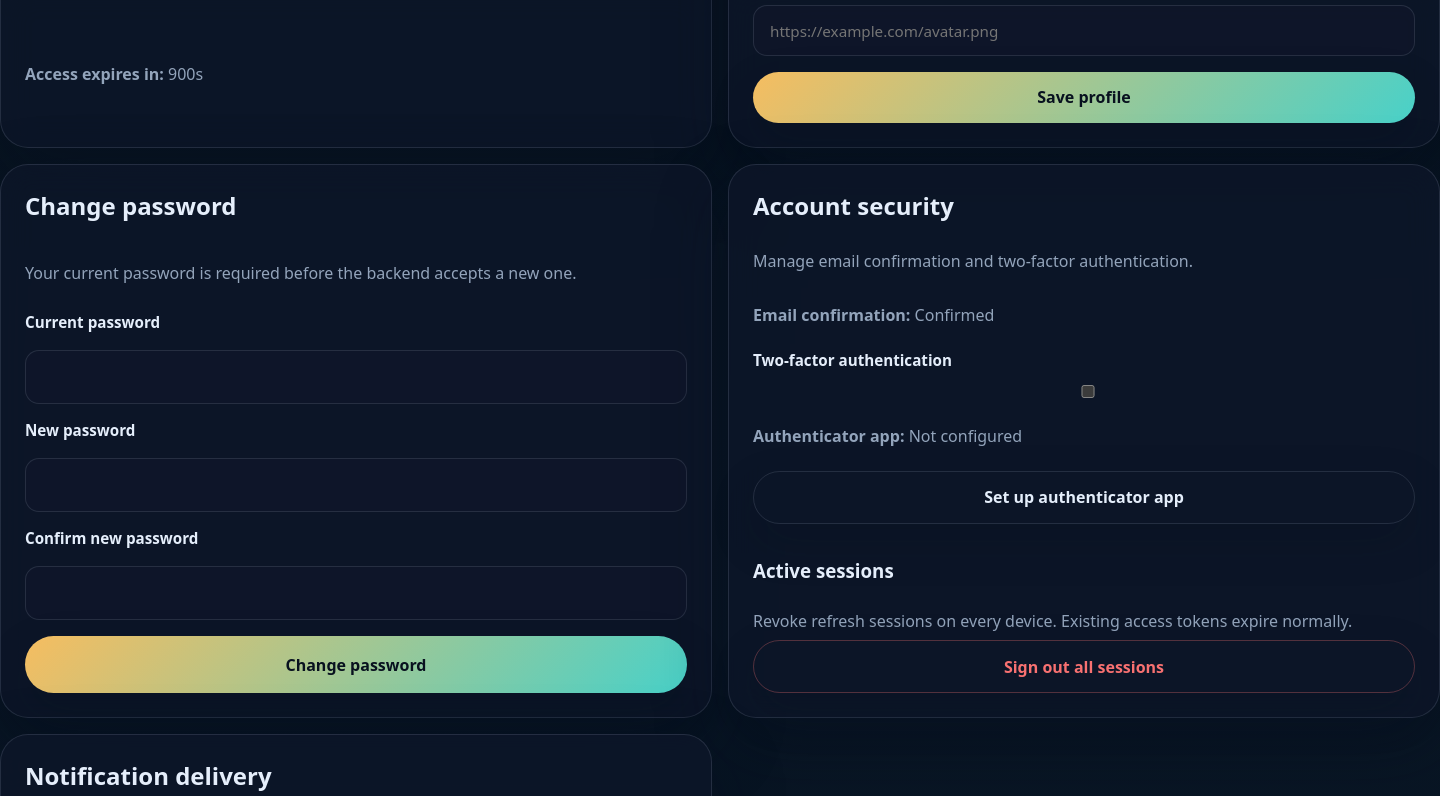
Test: Profile page › loads security settings and updates two-factor authentication
(page scrolled)
Click the checkbox labelled "Two-factor authentication".
click(1088, 391)  # box [757, 385, 1419, 398]
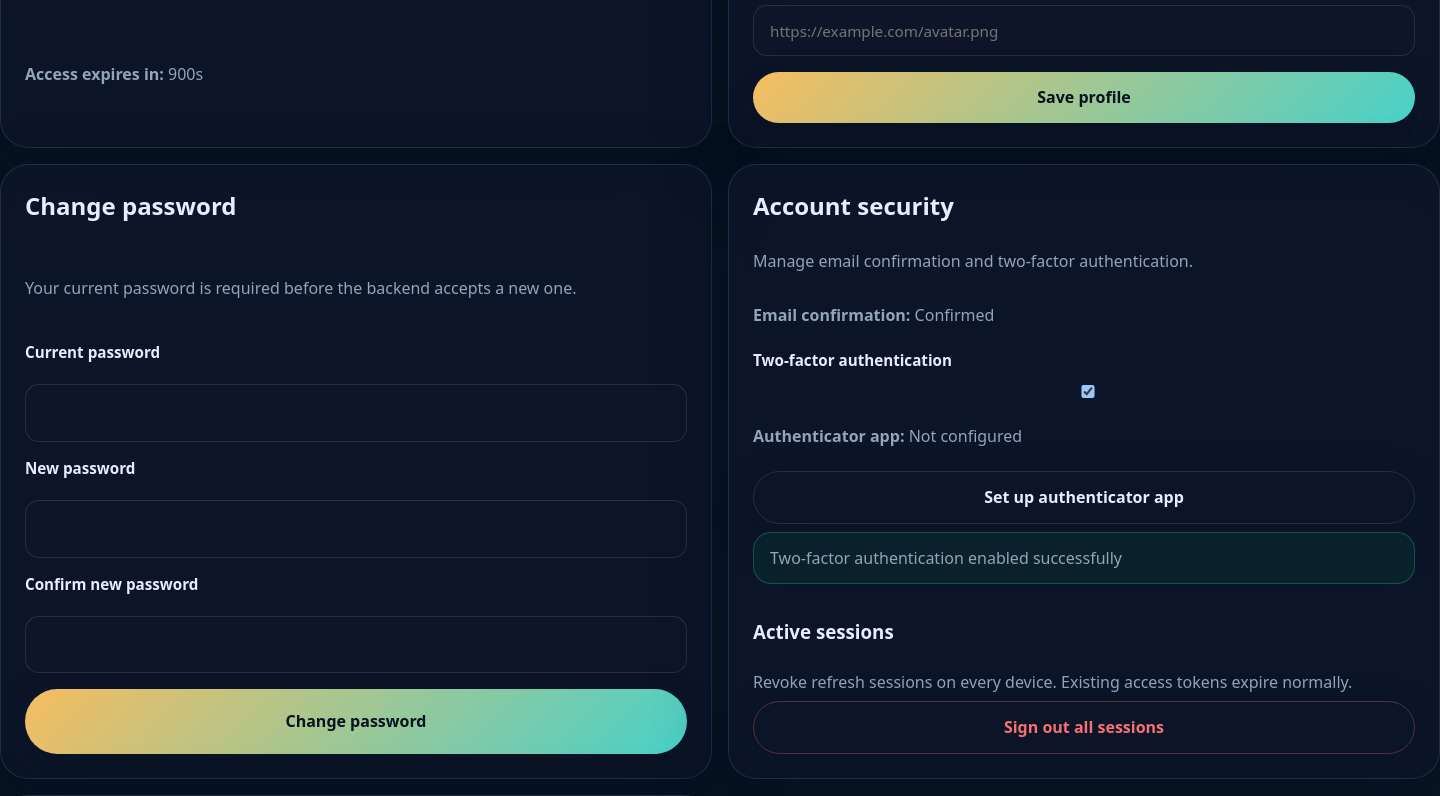
Check: the text "Two-factor authentication enabled successfully" is shown, box [753, 532, 1415, 584]
